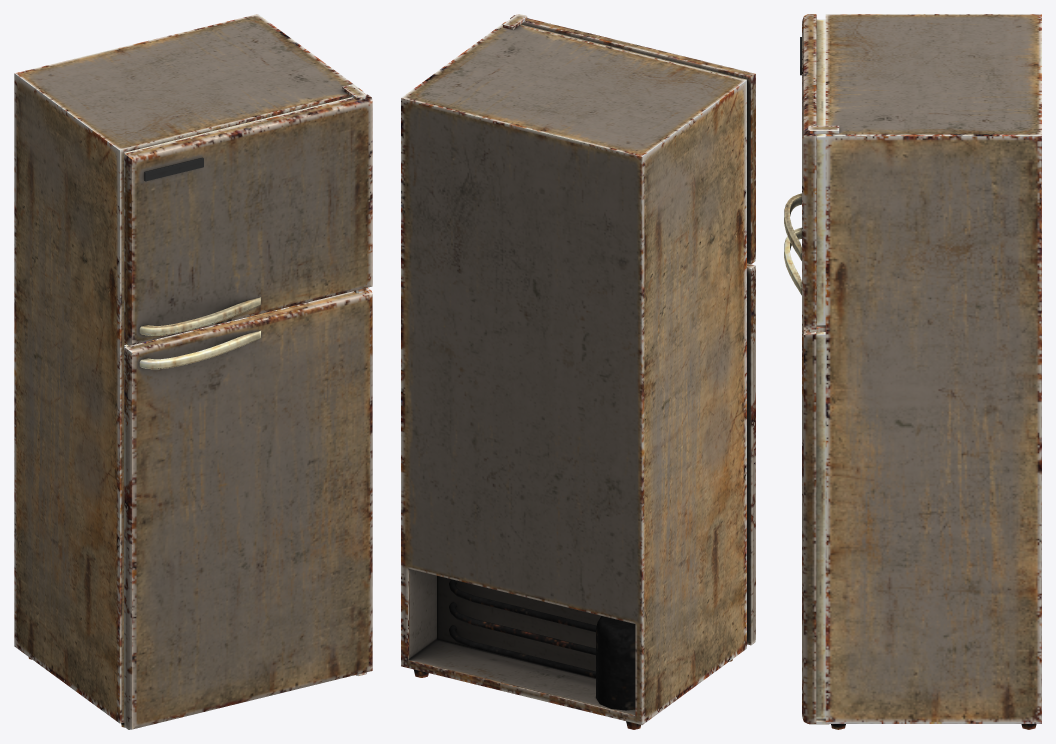
The model's file is O_Refr_2.fbx.
3 views of the same model, side by side, from view 1: azimuth 30°, elevation 25°; view 2: azimuth 150°, elevation 25°; view 3: azimuth 270°, elevation 25° (orthographic). The views are drawn at different scales.
Parts seen in each view (by area): view 1: Door_2, O_Refr_2, Door_1; view 2: O_Refr_2, Door_1, Door_2; view 3: O_Refr_2, Door_2, Door_1.
Boxes of the visible parts, <box> form: Door_2: <box>124,287,372,729</box>; O_Refr_2: <box>14,14,366,727</box>; Door_1: <box>124,94,372,345</box>; O_Refr_2: <box>401,14,746,729</box>; Door_1: <box>510,15,755,264</box>; Door_2: <box>747,263,755,645</box>; O_Refr_2: <box>808,14,1041,729</box>; Door_2: <box>784,227,825,723</box>; Door_1: <box>784,14,825,329</box>.
Size of the model in its own units: 80 by 184 by 71.5.
1 material, 1 textured.
